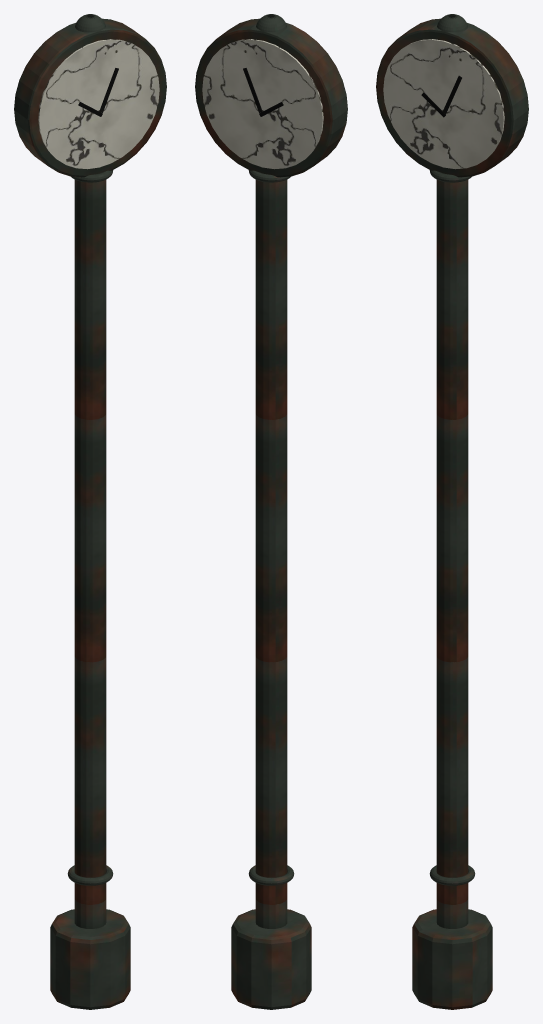
Rendered from ST01_StreetClockPole.glb.
3 renders of one model, left to right at view 1: azimuth 30°, elevation 25°; view 2: azimuth 150°, elevation 25°; view 3: azimuth 330°, elevation 25°, orthographic.
Visible parts, largest first — view 1: ST01_StreetClockPole; view 2: ST01_StreetClockPole; view 3: ST01_StreetClockPole.
Part boxes in pixels (box(x1,y1,x2,y2)): ST01_StreetClockPole: box(14, 14, 166, 1009); ST01_StreetClockPole: box(195, 14, 347, 1009); ST01_StreetClockPole: box(376, 14, 528, 1009).
Bounding box in the file's own units: 0.5941 × 4 × 0.297.
3 materials, 3 textured.
